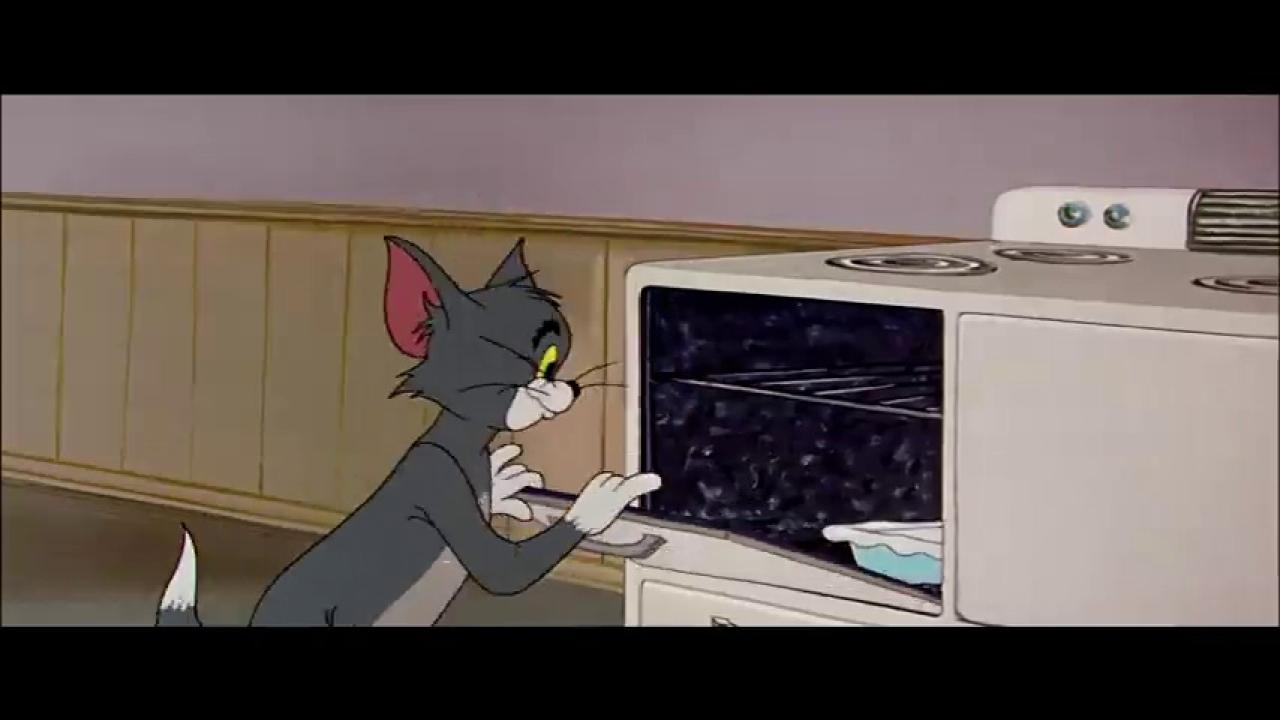Tom: (158, 230, 663, 625)
